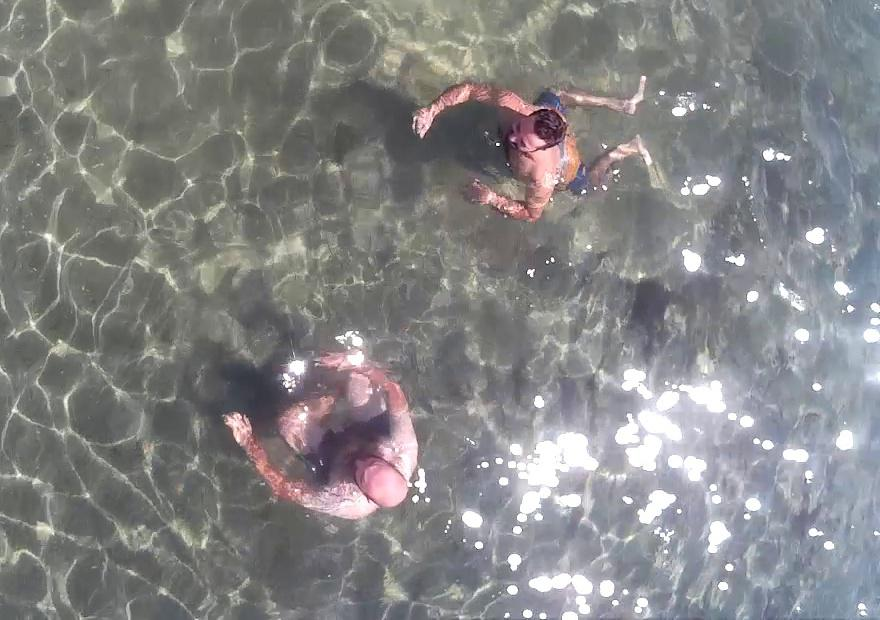swimmer: (201, 317, 424, 545), (407, 41, 654, 233)
